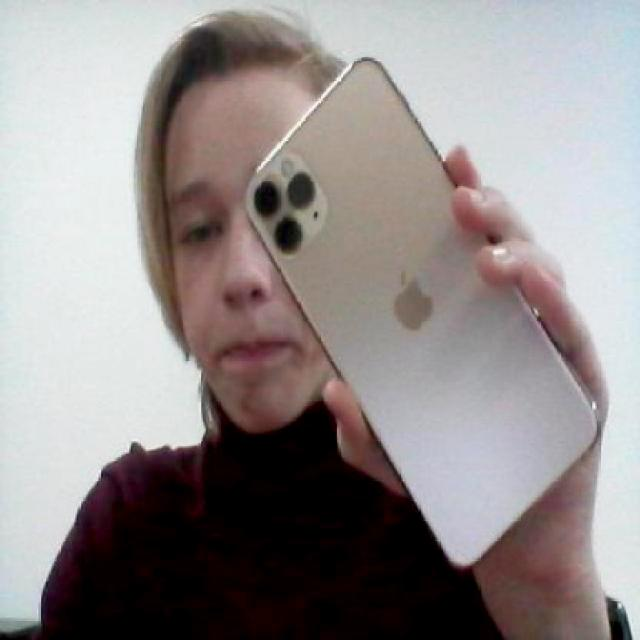phone: (232, 34, 606, 582)
